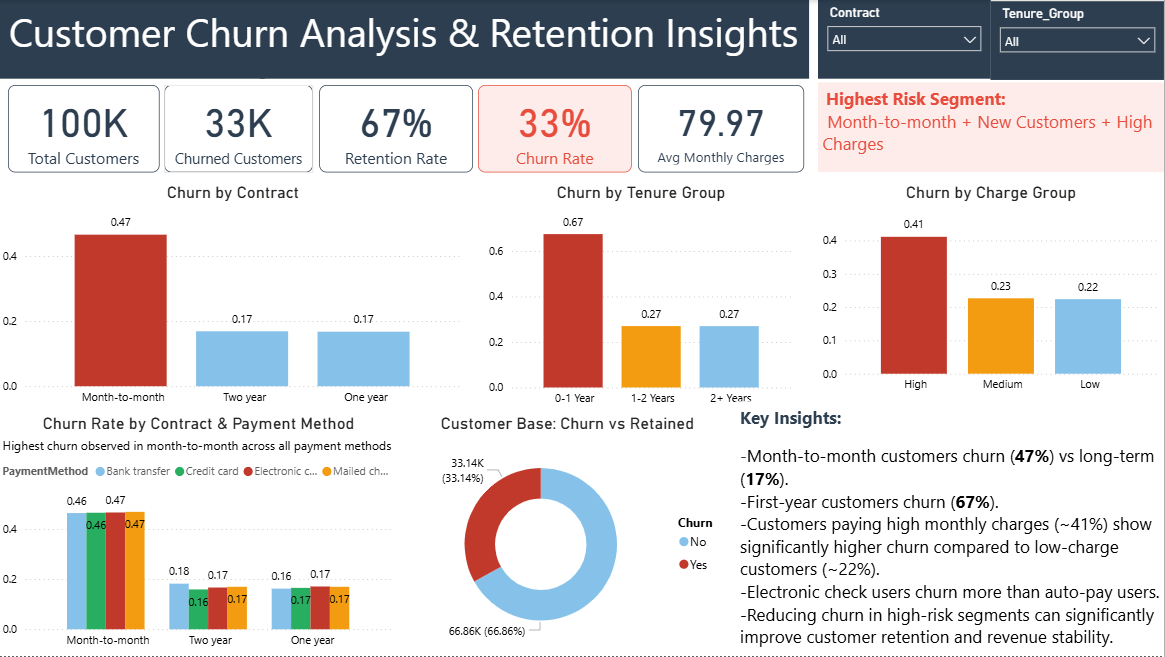

What the dashboard file says about the page in this screenshot:
{"tool":"powerbi","page":{"name":"Page 1","canvas":[1280,720],"ordinal":0},"visuals":[{"type":"card","fields":{"Values":["synthetic_customer_churn_100k.Total Customers"]},"box":[11,93.3,166,96.1],"z":0},{"type":"card","fields":{"Values":["synthetic_customer_churn_100k.Avg Monthly Charges"]},"box":[702,93.3,182.5,96.1],"z":1000},{"type":"card","fields":{"Values":["synthetic_customer_churn_100k.Churn Rate"]},"box":[527.2,93.3,168.8,96.1],"z":2000},{"type":"card","fields":{"Values":["synthetic_customer_churn_100k.Churned Customers"]},"box":[183.1,93.3,163.3,96.1],"z":3000},{"type":"clusteredColumnChart","title":"Churn by Contract","fields":{"Category":["synthetic_customer_churn_100k.Contract"],"Y":["Avg(synthetic_customer_churn_100k.Churn_Flag)"]},"box":[0,200.3,516,253.9],"z":4000},{"type":"clusteredColumnChart","title":"Churn by Tenure Group","fields":{"Category":["synthetic_customer_churn_100k.Tenure_Group"],"Y":["Avg(synthetic_customer_churn_100k.Churn_Flag)"]},"box":[533.8,200.3,344.4,255.2],"z":5000},{"type":"clusteredColumnChart","title":"Churn by Charge Group","fields":{"Category":["synthetic_customer_churn_100k.Charge_Group"],"Y":["Avg(synthetic_customer_churn_100k.Churn_Flag)"]},"box":[900.2,200.3,380.1,240.1],"z":6000},{"type":"clusteredColumnChart","title":"Churn Rate by Contract & Payment Method","fields":{"Category":["synthetic_customer_churn_100k.Contract"],"Y":["Avg(synthetic_customer_churn_100k.Churn_Flag)"],"Series":["synthetic_customer_churn_100k.PaymentMethod"]},"box":[0,454.2,440.5,266.2],"z":7000},{"type":"donutChart","title":"Customer Base: Churn vs Retained","fields":{"Category":["synthetic_customer_churn_100k.Churn"],"Y":["CountNonNull(synthetic_customer_churn_100k.CustomerID)"]},"box":[440.5,454.2,369.1,266.2],"z":8000},{"type":"textbox","box":[809.6,440.5,470.7,279.9],"z":9000},{"type":"textbox","box":[0,0,890.6,86.4],"z":10000},{"type":"textbox","box":[900.2,90.6,380.1,98.8],"z":11000},{"type":"card","fields":{"Values":["synthetic_customer_churn_100k.Retention Rate"]},"box":[352.4,93.3,168.8,96.1],"z":12000},{"type":"slicer","fields":{"Values":["synthetic_customer_churn_100k.Contract"]},"box":[900.2,0,189.4,86.4],"z":13000},{"type":"slicer","fields":{"Values":["synthetic_customer_churn_100k.Tenure_Group"]},"box":[1089.5,1.4,190.7,86.4],"z":14000}]}

Visuals, with their boxes in screenshot pixels (x1, y1, x2, y2), scaled from the page's 1280x720 canvas onto the 1165x657 screenshot:
card - synthetic_customer_churn_100k.Total Customers: {"left": 10, "top": 85, "right": 161, "bottom": 173}
card - synthetic_customer_churn_100k.Avg Monthly Charges: {"left": 639, "top": 85, "right": 805, "bottom": 173}
card - synthetic_customer_churn_100k.Churn Rate: {"left": 480, "top": 85, "right": 633, "bottom": 173}
card - synthetic_customer_churn_100k.Churned Customers: {"left": 167, "top": 85, "right": 315, "bottom": 173}
"Churn by Contract" clusteredColumnChart: {"left": 0, "top": 183, "right": 470, "bottom": 414}
"Churn by Tenure Group" clusteredColumnChart: {"left": 486, "top": 183, "right": 799, "bottom": 416}
"Churn by Charge Group" clusteredColumnChart: {"left": 819, "top": 183, "right": 1164, "bottom": 402}
"Churn Rate by Contract & Payment Method" clusteredColumnChart: {"left": 0, "top": 414, "right": 401, "bottom": 656}
"Customer Base: Churn vs Retained" donutChart: {"left": 401, "top": 414, "right": 737, "bottom": 656}
textbox: {"left": 737, "top": 402, "right": 1164, "bottom": 656}
textbox: {"left": 0, "top": 0, "right": 811, "bottom": 79}
textbox: {"left": 819, "top": 83, "right": 1164, "bottom": 173}
card - synthetic_customer_churn_100k.Retention Rate: {"left": 321, "top": 85, "right": 474, "bottom": 173}
slicer - synthetic_customer_churn_100k.Contract: {"left": 819, "top": 0, "right": 992, "bottom": 79}
slicer - synthetic_customer_churn_100k.Tenure_Group: {"left": 992, "top": 1, "right": 1164, "bottom": 80}
